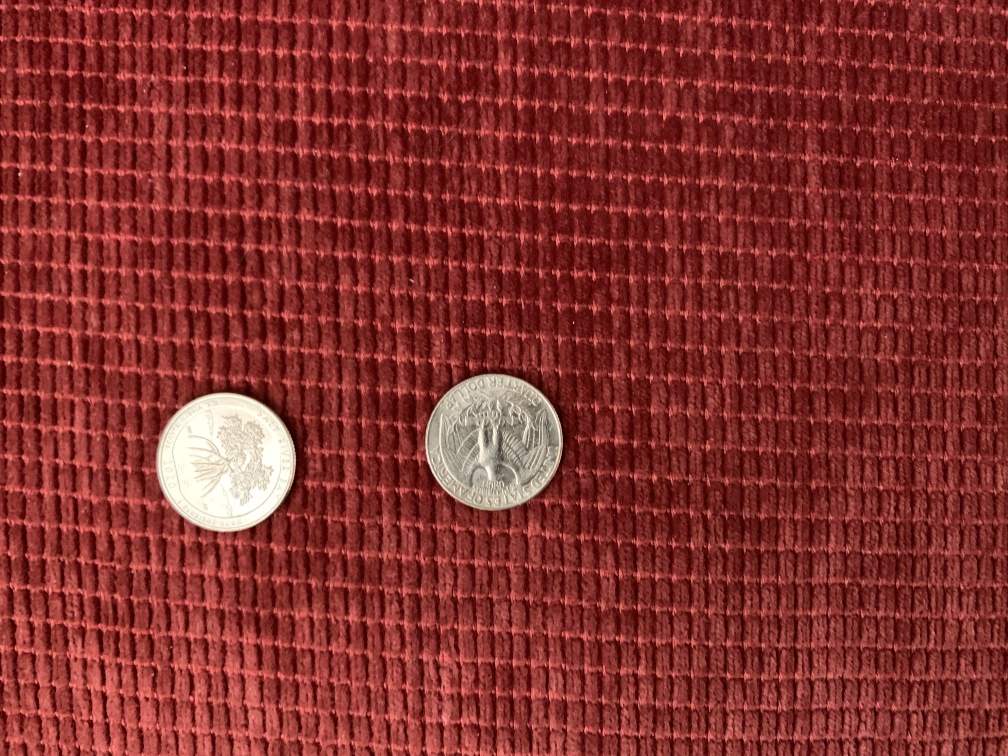quarter: (417, 370, 569, 517), (153, 389, 300, 538)
